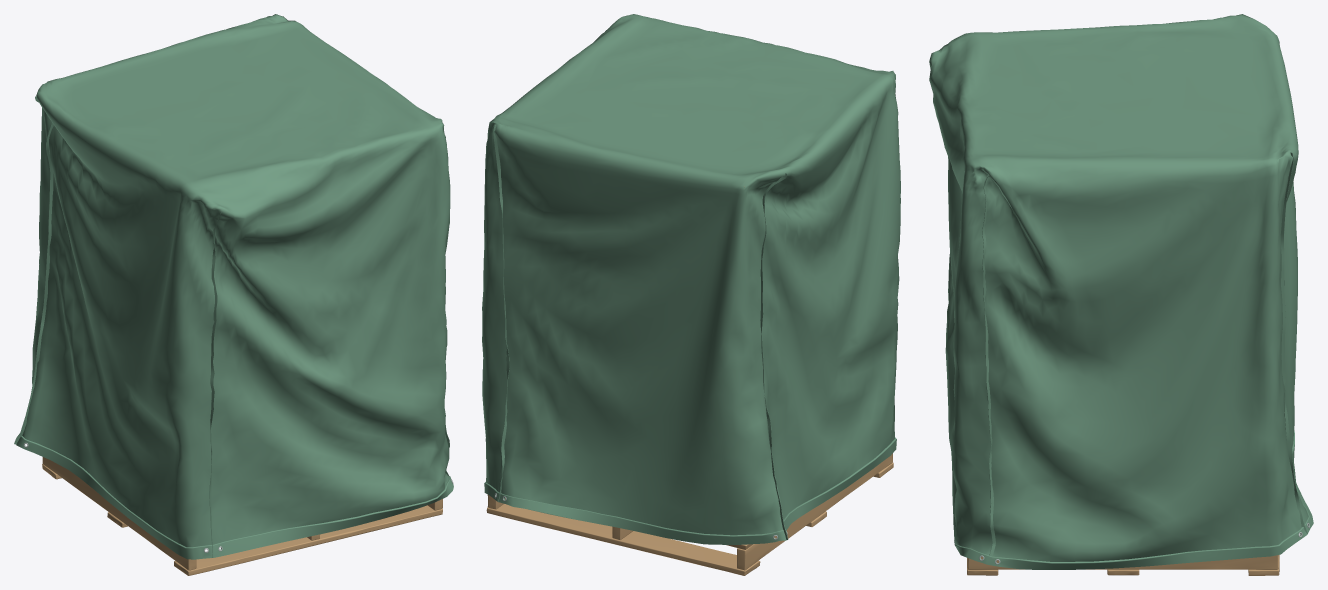
Rendered from pallet_assembly_b02.glb.
The picture shows the model from 3 angles, left to right: view 1: azimuth 30°, elevation 25°; view 2: azimuth 150°, elevation 25°; view 3: azimuth 270°, elevation 25°; orthographic projection. The views are drawn at different scales.
Bounding box in the file's own units: 1.11 × 1.33 × 1.11.
